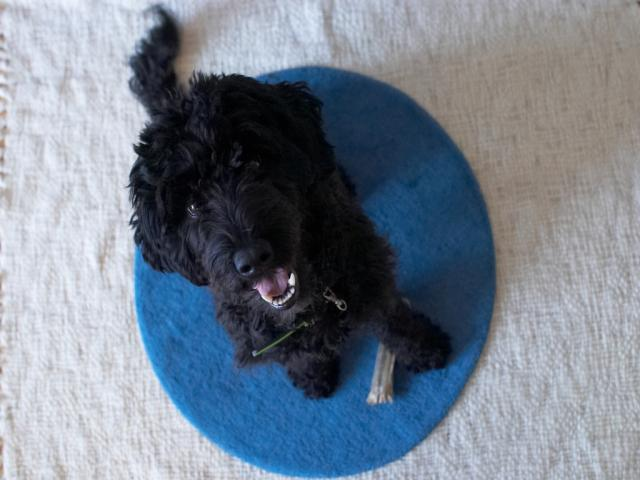Dog: (121, 1, 455, 404)
